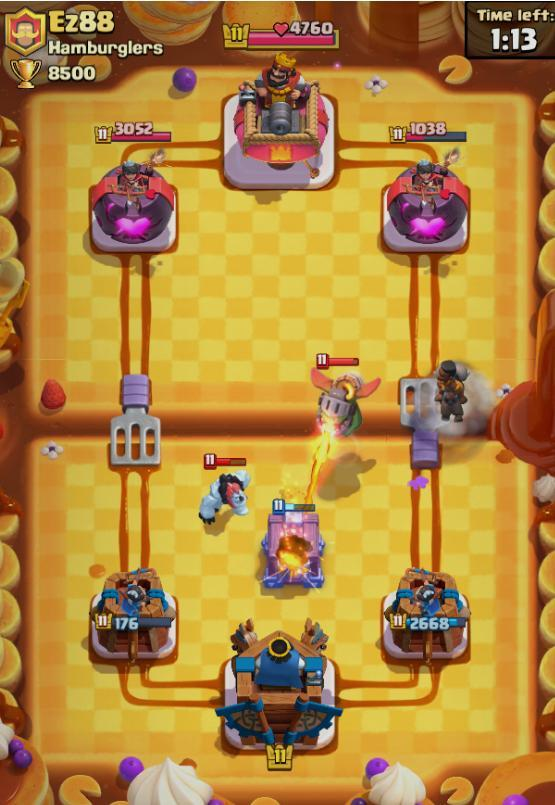EIceGolem: (199, 471, 250, 525)
EInfernoDrag: (312, 369, 380, 438)
EKingTower: (223, 54, 333, 190)
EnemyPrincessTower: (90, 149, 176, 253), (382, 160, 469, 253)
OGoblinCage: (261, 500, 324, 589)
ORamrider: (434, 360, 469, 422)
OwnKingTower: (216, 620, 341, 750)
OwnPrincessTower: (382, 567, 469, 663), (89, 568, 176, 662)
